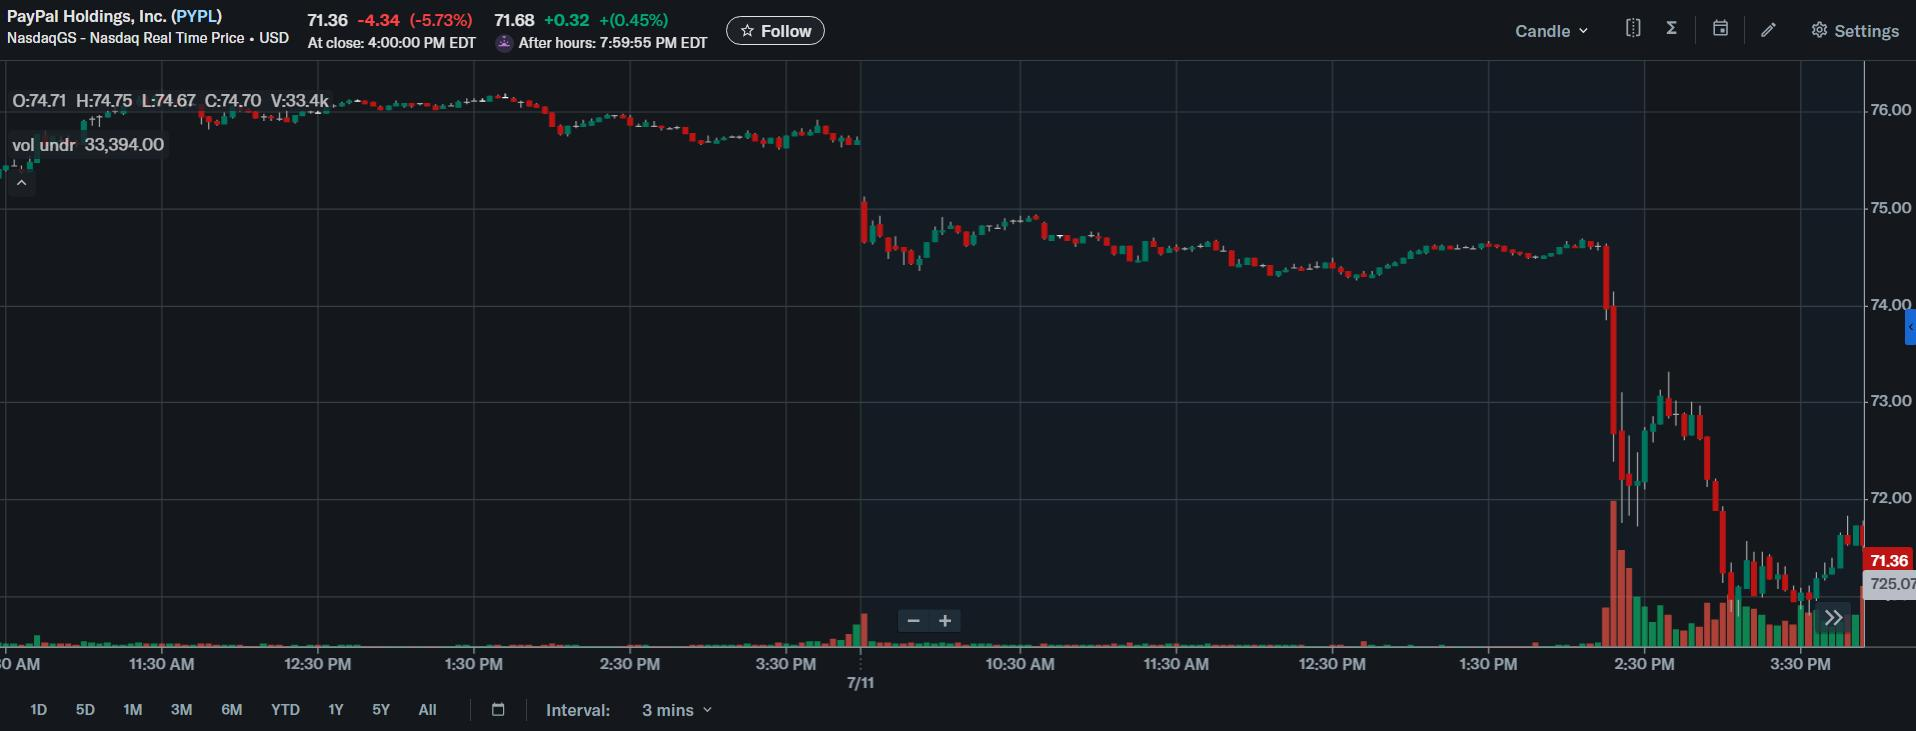Downtrend: (1689, 402, 1740, 592), (1604, 229, 1630, 505)
Sideways: (915, 199, 1378, 288), (550, 104, 861, 160), (1384, 232, 1602, 264)
Uptrend: (1625, 384, 1672, 529)
